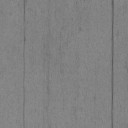surface scratch: (21, 0, 26, 122), (110, 0, 114, 128)
